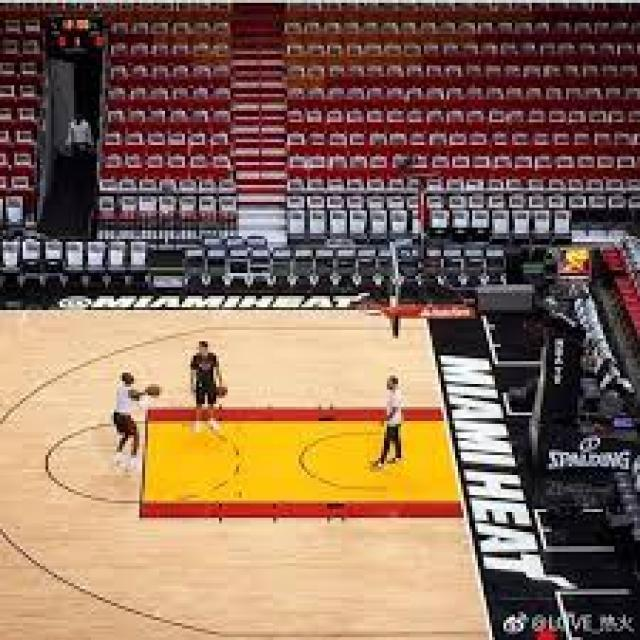rim: (145, 384, 162, 398), (214, 387, 228, 395)
